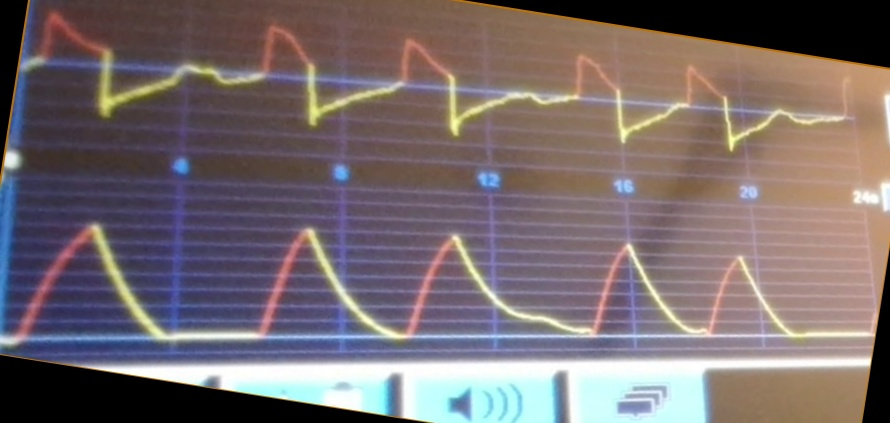Ineffective_effort Flow: (28, 8, 852, 156)
Ineffective_effort Volume: (5, 214, 870, 354)
